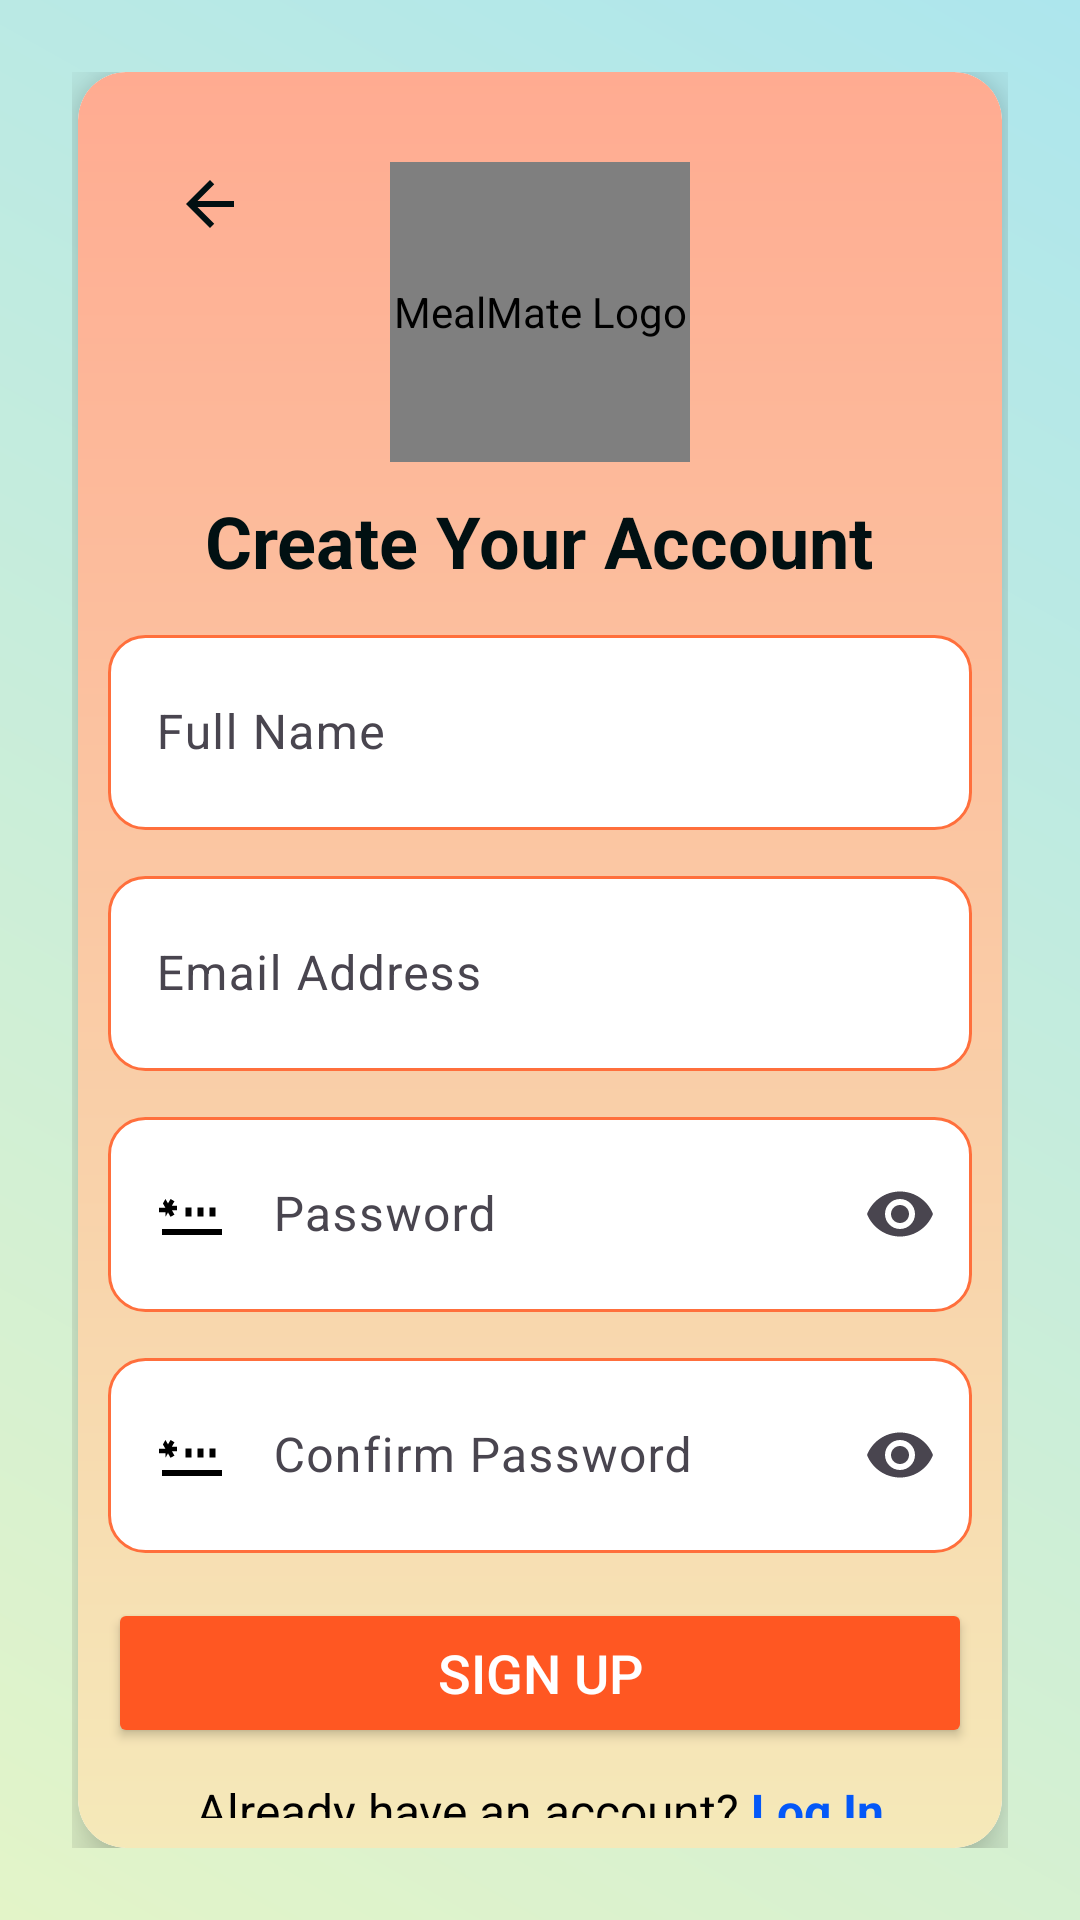

Icon click points for this 1080×1920 phone screenshot, format (x=x, y=y):
Back: (x=210, y=204)
